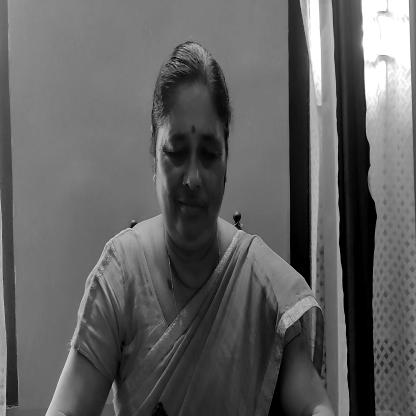Normal: (152, 37, 228, 254)
